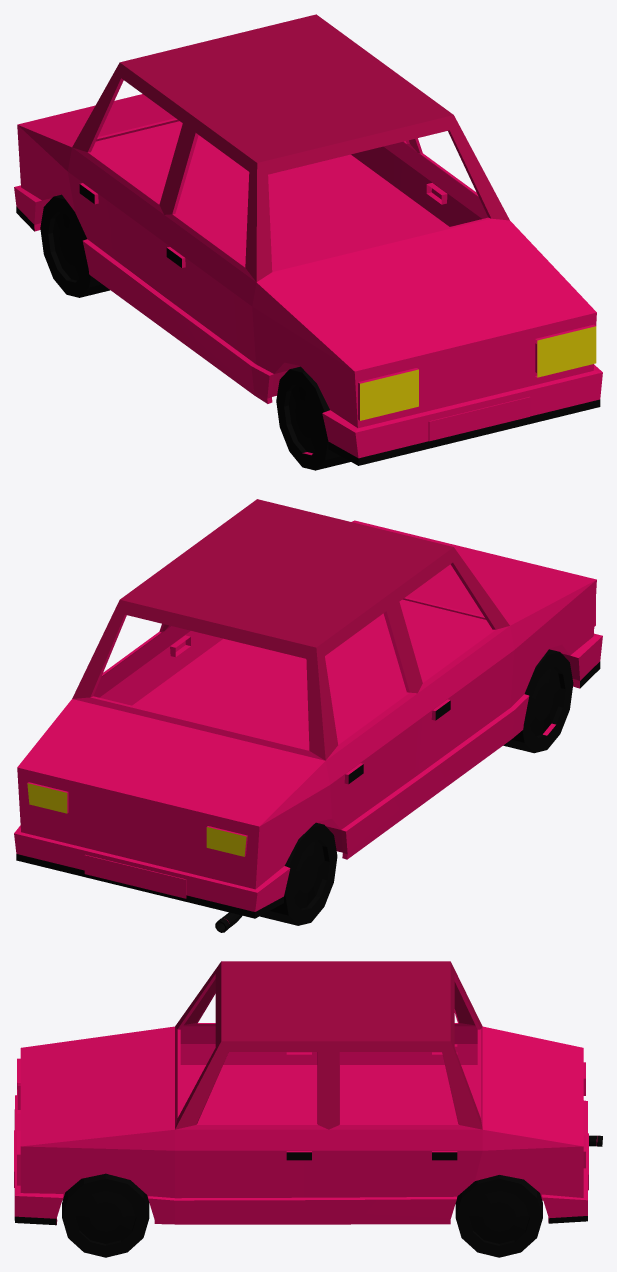
File: RareSkin2 1.fbx
The picture shows the model from 3 angles, top to bottom: view 1: azimuth 30°, elevation 25°; view 2: azimuth 150°, elevation 25°; view 3: azimuth 270°, elevation 25°; orthographic projection. The views are drawn at different scales.
Parts seen in each view (by area): view 1: RareSkin.001; view 2: RareSkin.001; view 3: RareSkin.001.
Part boxes in pixels (x1,y1,x2,y2): RareSkin.001: (14, 14, 602, 470); RareSkin.001: (14, 499, 602, 932); RareSkin.001: (14, 961, 602, 1257).
Size of the model in its own units: 165 by 145 by 375.
